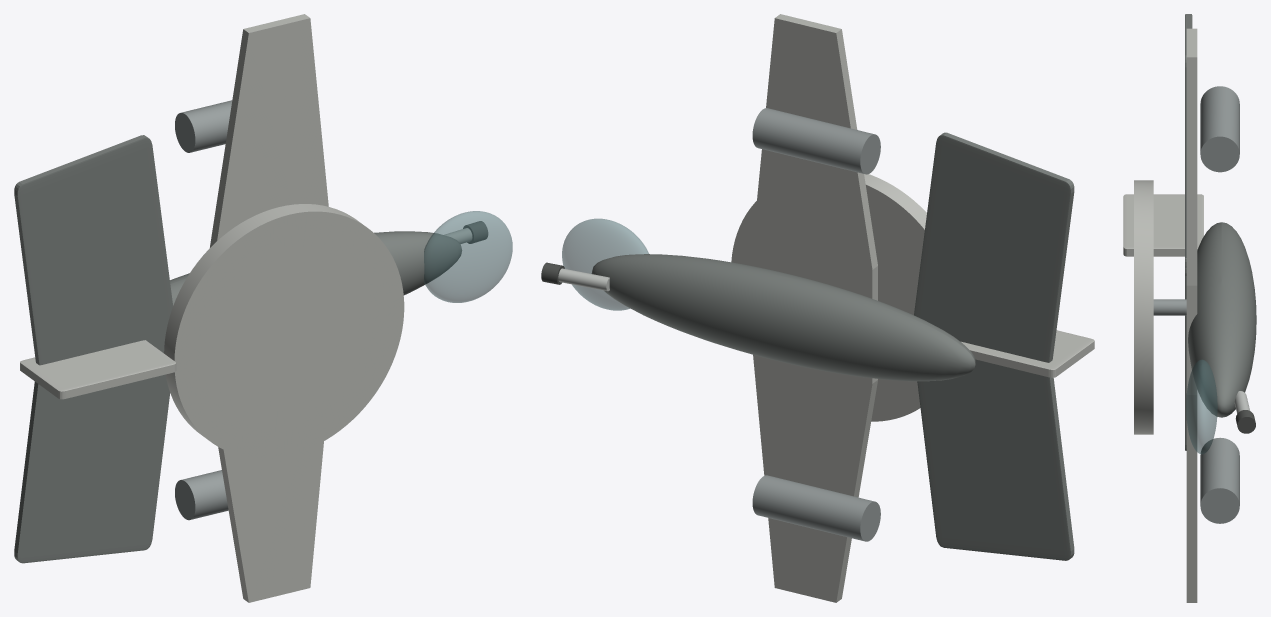
File: c-u18-awacs-lod1.glb
3 renders of one model, left to right at view 1: azimuth 30°, elevation 25°; view 2: azimuth 150°, elevation 25°; view 3: azimuth 270°, elevation 25°, orthographic. The views are drawn at different scales.
Visible parts, largest first — view 1: awacs_rotodome, transport_high_wing, transport_tailplane_1, transport_tailplane_-1, transport_cockpit, transport_fin_0, transport_fuselage, transport_engine_1, transport_engine_0; view 2: transport_high_wing, transport_tailplane_1, transport_fuselage, transport_tailplane_-1, awacs_rotodome, transport_engine_1, transport_engine_0, transport_cockpit, transport_fin_0, defensive_cannon_barrel_0; view 3: transport_fuselage, transport_high_wing, awacs_rotodome, transport_engine_1, transport_engine_0, transport_fin_0, transport_cockpit, transport_tailplane_1, awacs_pylon, defensive_cannon_muzzle_0, transport_tailplane_-1, defensive_cannon_barrel_0.
Part boxes in pixels (x1=…): awacs_rotodome: x1=164, y1=204, x2=404, y2=458; transport_high_wing: x1=210, y1=14, x2=328, y2=602; transport_tailplane_1: x1=14, y1=135, x2=172, y2=365; transport_tailplane_-1: x1=14, y1=336, x2=169, y2=563; transport_cockpit: x1=424, y1=211, x2=512, y2=302; transport_fin_0: x1=20, y1=340, x2=176, y2=399; transport_fuselage: x1=170, y1=231, x2=461, y2=305; transport_engine_1: x1=175, y1=100, x2=232, y2=152; transport_engine_0: x1=175, y1=470, x2=228, y2=520; transport_high_wing: x1=753, y1=14, x2=877, y2=602; transport_tailplane_1: x1=914, y1=132, x2=1074, y2=383; transport_fuselage: x1=591, y1=254, x2=975, y2=381; transport_tailplane_-1: x1=917, y1=337, x2=1074, y2=560; awacs_rotodome: x1=731, y1=174, x2=926, y2=421; transport_engine_1: x1=752, y1=108, x2=880, y2=174; transport_engine_0: x1=752, y1=475, x2=880, y2=541; transport_cockpit: x1=562, y1=218, x2=648, y2=310; transport_fin_0: x1=961, y1=330, x2=1094, y2=377; defensive_cannon_barrel_0: x1=558, y1=268, x2=609, y2=291; transport_fuselage: x1=1188, y1=222, x2=1256, y2=417; transport_high_wing: x1=1186, y1=28, x2=1197, y2=602; awacs_rotodome: x1=1134, y1=180, x2=1153, y2=434; transport_engine_1: x1=1200, y1=86, x2=1239, y2=172; transport_engine_0: x1=1200, y1=437, x2=1239, y2=523; transport_fin_0: x1=1123, y1=194, x2=1203, y2=256; transport_cockpit: x1=1186, y1=359, x2=1217, y2=454; transport_tailplane_1: x1=1185, y1=14, x2=1192, y2=275; awacs_pylon: x1=1153, y1=299, x2=1186, y2=315; defensive_cannon_muzzle_0: x1=1235, y1=410, x2=1255, y2=433; transport_tailplane_-1: x1=1185, y1=258, x2=1186, y2=450; defensive_cannon_barrel_0: x1=1234, y1=391, x2=1249, y2=413.
Size of what is drawn, in the model's own units: 20.79 by 22.5 by 4.98.
